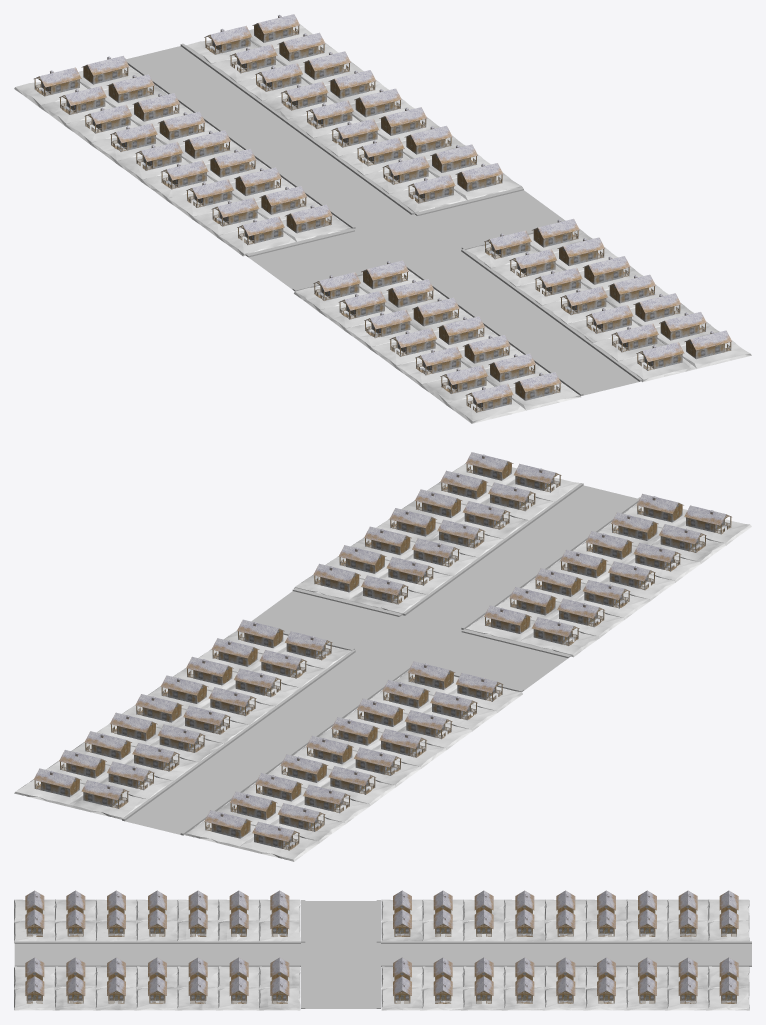
File: snow_land.obj
3 views of the same model, one above another, from view 1: azimuth 30°, elevation 25°; view 2: azimuth 150°, elevation 25°; view 3: azimuth 270°, elevation 25° (orthographic). The views are drawn at different scales.
Parts seen in each view (by area): view 1: Snow covered CottageOBJ.017, Plane, Cube.054; view 2: Snow covered CottageOBJ.017, Plane, Cube.054; view 3: Cube.054, Snow covered CottageOBJ.017, Plane.
Boxes of the visible parts, x1=… form: Snow covered CottageOBJ.017: x1=34, y1=14, x2=731, y2=412; Plane: x1=125, y1=43, x2=642, y2=395; Cube.054: x1=14, y1=24, x2=751, y2=423; Snow covered CottageOBJ.017: x1=33, y1=452, x2=731, y2=850; Plane: x1=122, y1=483, x2=640, y2=835; Cube.054: x1=14, y1=463, x2=751, y2=861; Cube.054: x1=14, y1=899, x2=749, y2=1010; Snow covered CottageOBJ.017: x1=25, y1=890, x2=738, y2=1003; Plane: x1=14, y1=900, x2=751, y2=1008.
Size of the model in its own units: 270 by 19.18 by 767.
